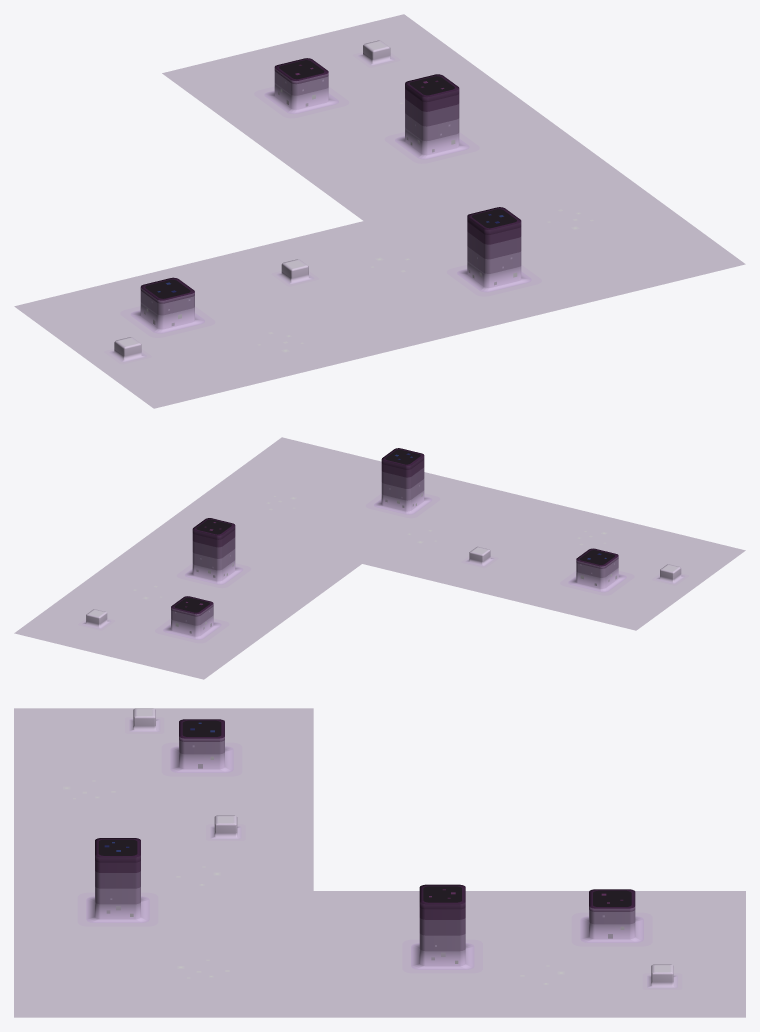
The model's file is C_special1_out_LU.fbx.
3 views of the same model, one above another, from view 1: azimuth 30°, elevation 25°; view 2: azimuth 150°, elevation 25°; view 3: azimuth 270°, elevation 25° (orthographic). The views are drawn at different scales.
Visible parts, largest first — view 1: C_special1_out_LU; view 2: C_special1_out_LU; view 3: C_special1_out_LU.
Boxes of the visible parts, box(x1,y1,x2,y2) form: C_special1_out_LU: box(14, 14, 745, 408); C_special1_out_LU: box(14, 437, 745, 679); C_special1_out_LU: box(14, 708, 745, 1017).
Bounding box in the file's own units: 127 × 12.34 × 127.
